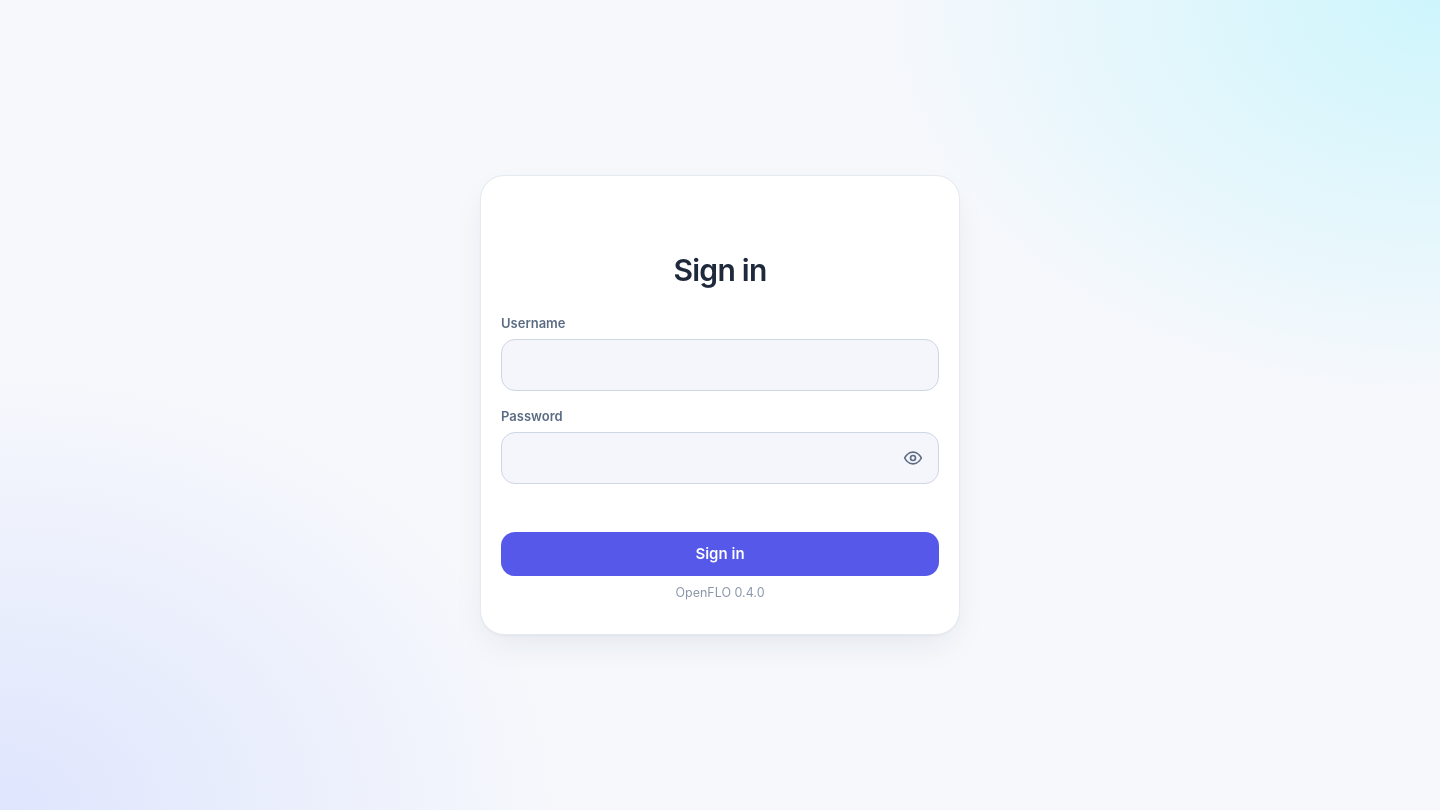
App boot routing › sends a 401 to sign-in with ?next=, and back there after signing in
Expected: the heading "Sign in" is shown, left=674, top=252, right=766, bottom=288
Type "admin" into the field labelled "Username" at (720, 365), box left=501, top=339, right=939, bottom=391
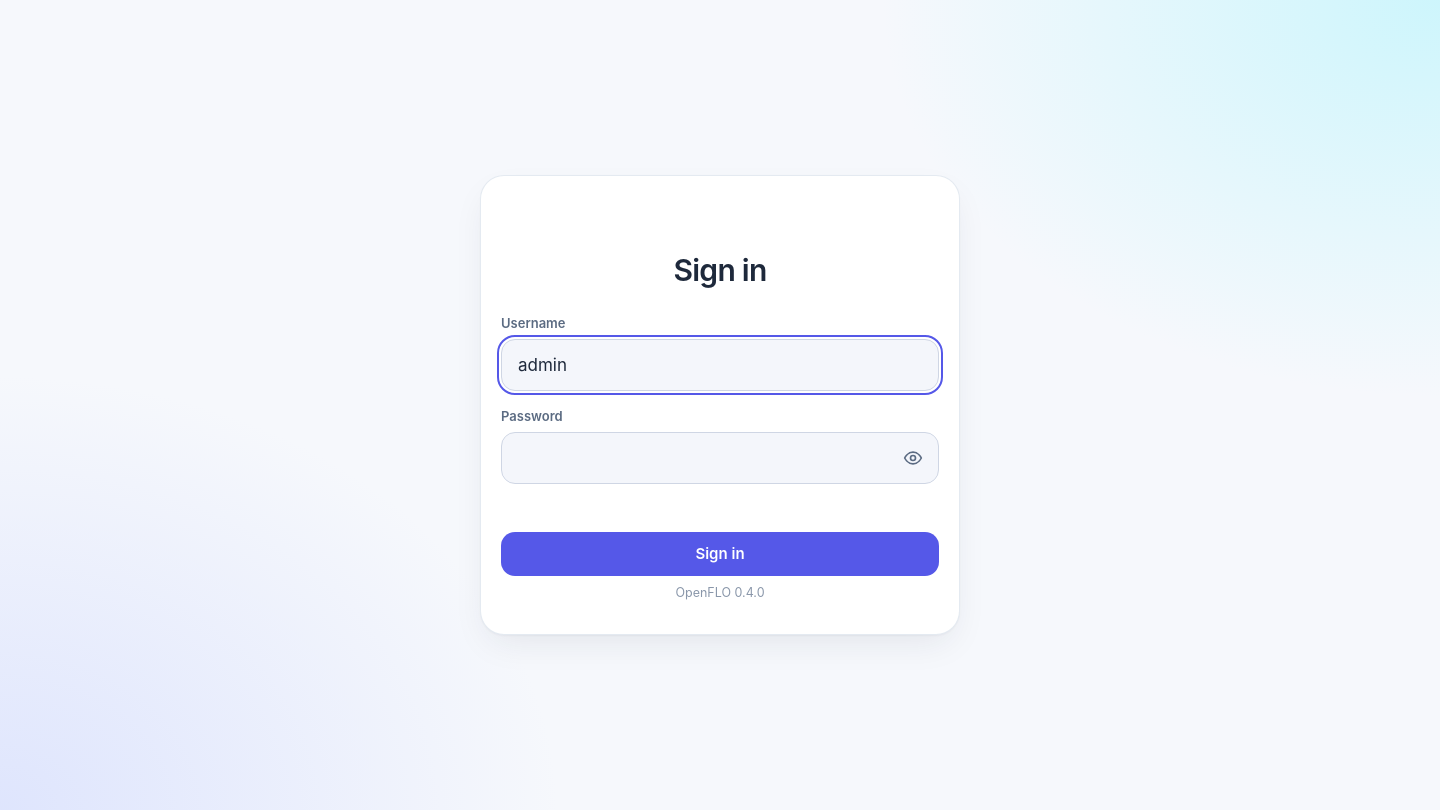
Type "correct horse battery" into the password field labelled "Password" at (720, 458), box left=501, top=432, right=939, bottom=484
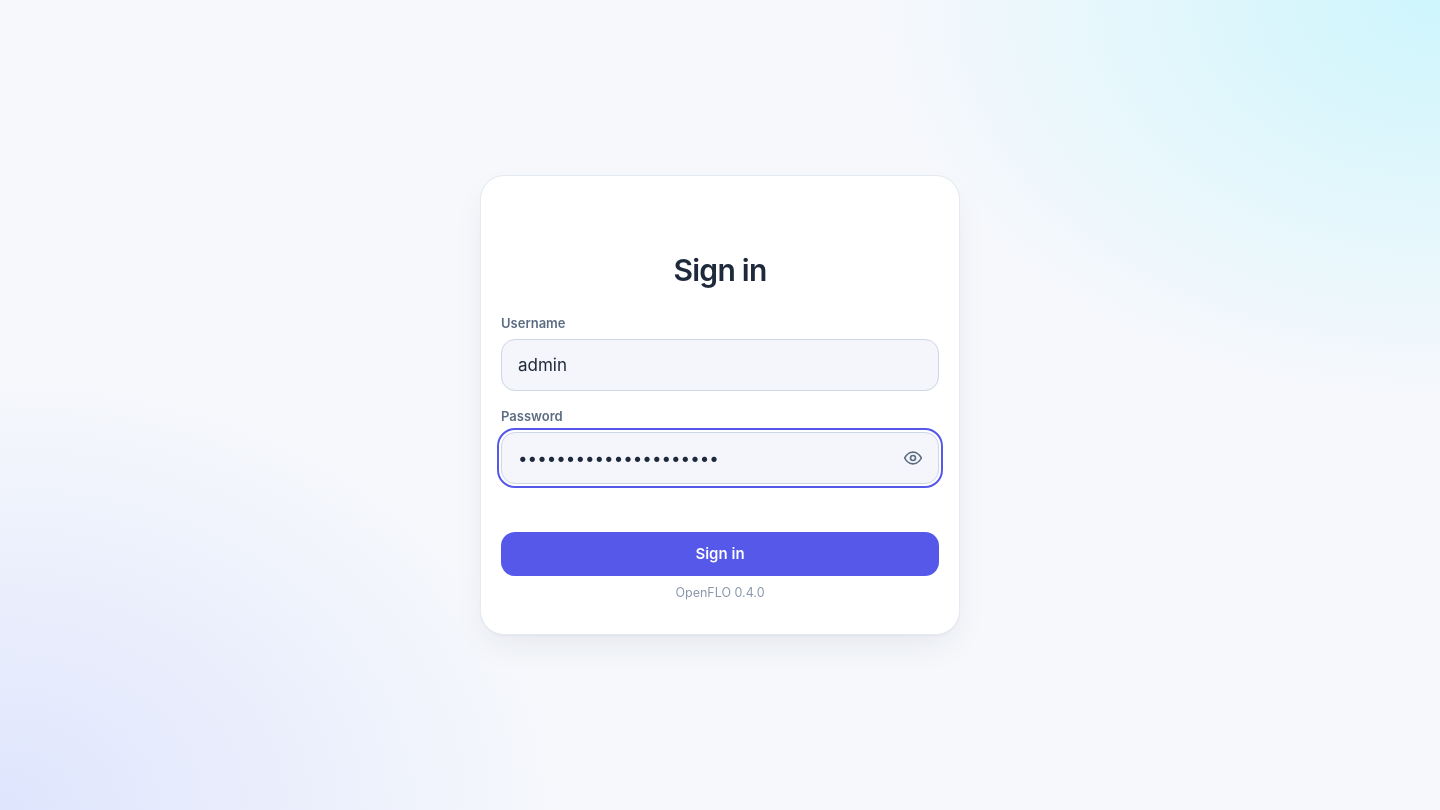
Click the button "Sign in" at (720, 554), box left=501, top=532, right=939, bottom=576
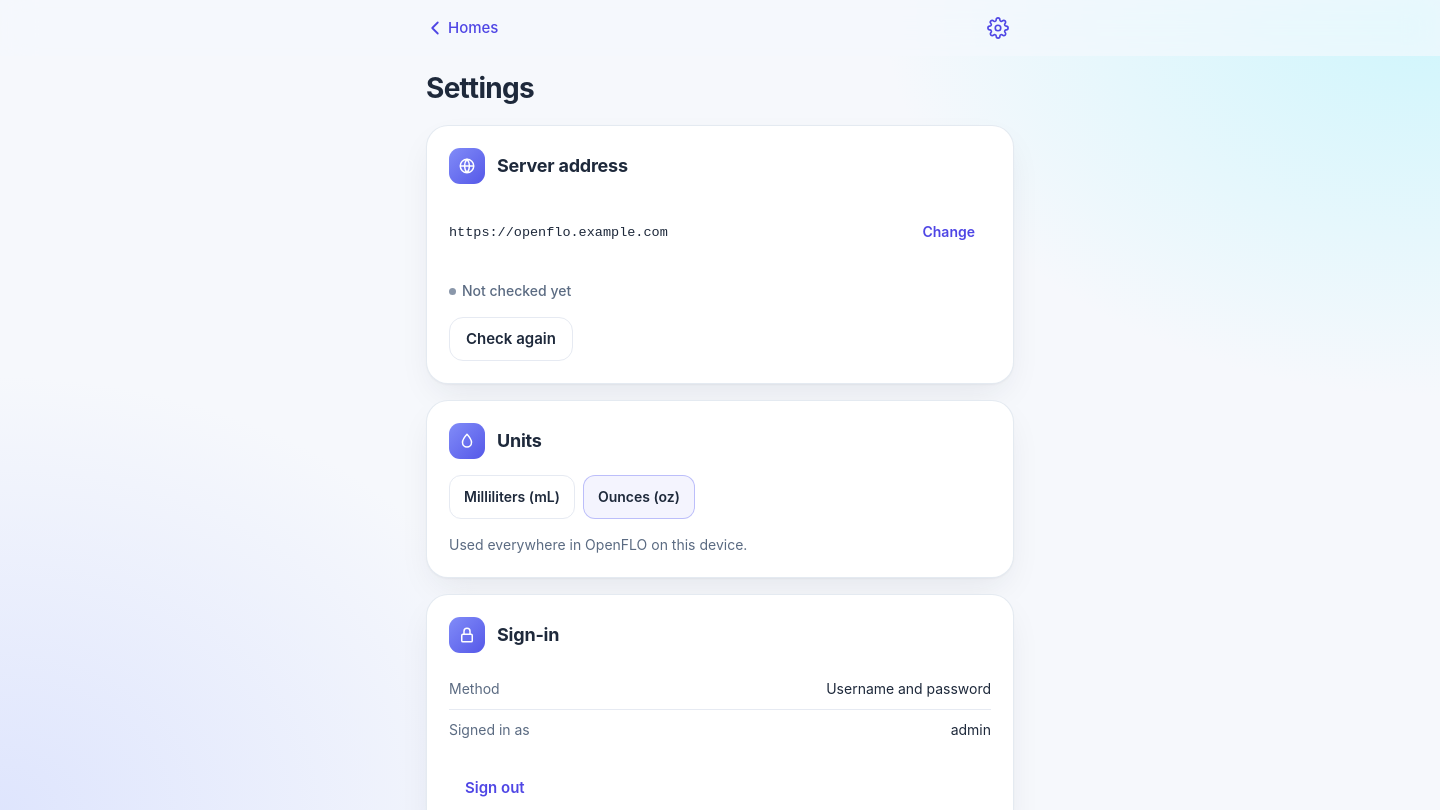
Now the heading "Settings" is shown, box left=426, top=71, right=534, bottom=105
